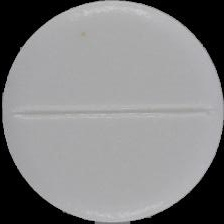50436-1720: (0, 0, 224, 224)
